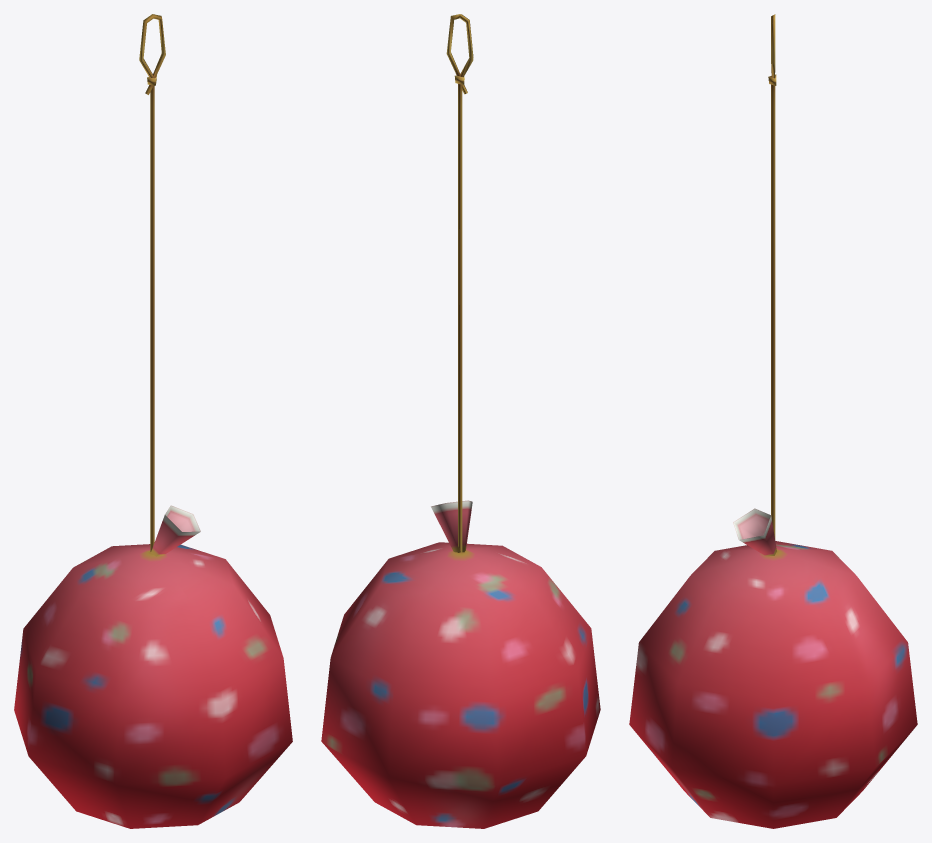
File: jsf_WaterBalloon_17_a.fbx
The picture shows the model from 3 angles, left to right: view 1: azimuth 30°, elevation 25°; view 2: azimuth 150°, elevation 25°; view 3: azimuth 270°, elevation 25°; orthographic projection.
Parts seen in each view (by area): view 1: jsf_WaterBalloon_17_a; view 2: jsf_WaterBalloon_17_a; view 3: jsf_WaterBalloon_17_a.
Part boxes in pixels (x1,y1,x2,y2): jsf_WaterBalloon_17_a: (14,14,292,828); jsf_WaterBalloon_17_a: (321,14,600,828); jsf_WaterBalloon_17_a: (629,14,917,828).
Bounding box in the file's own units: 10.92 × 33.54 × 10.92.
